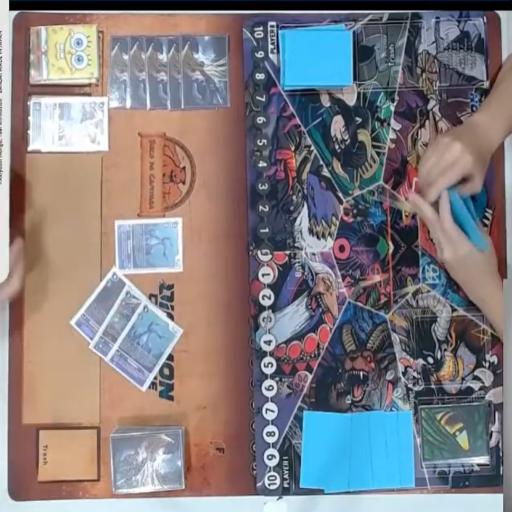card: (106, 304, 185, 396), (26, 94, 112, 155), (114, 217, 186, 273), (90, 288, 141, 364), (72, 273, 124, 341)
